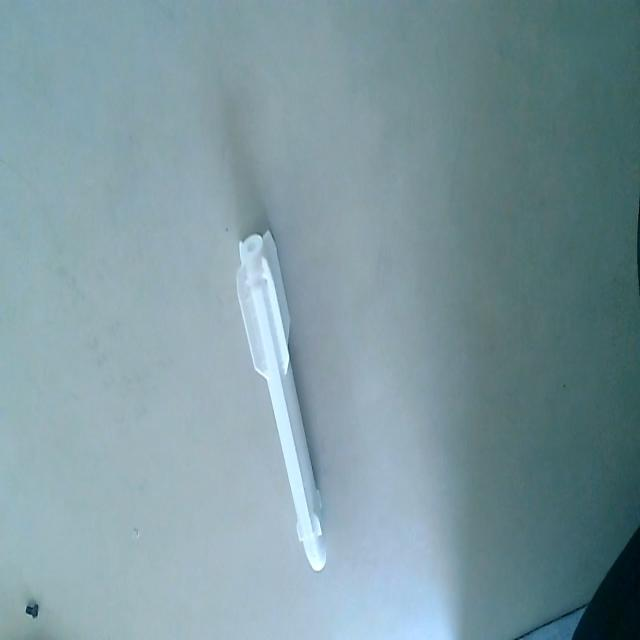Rocket: (233, 228, 331, 577)
